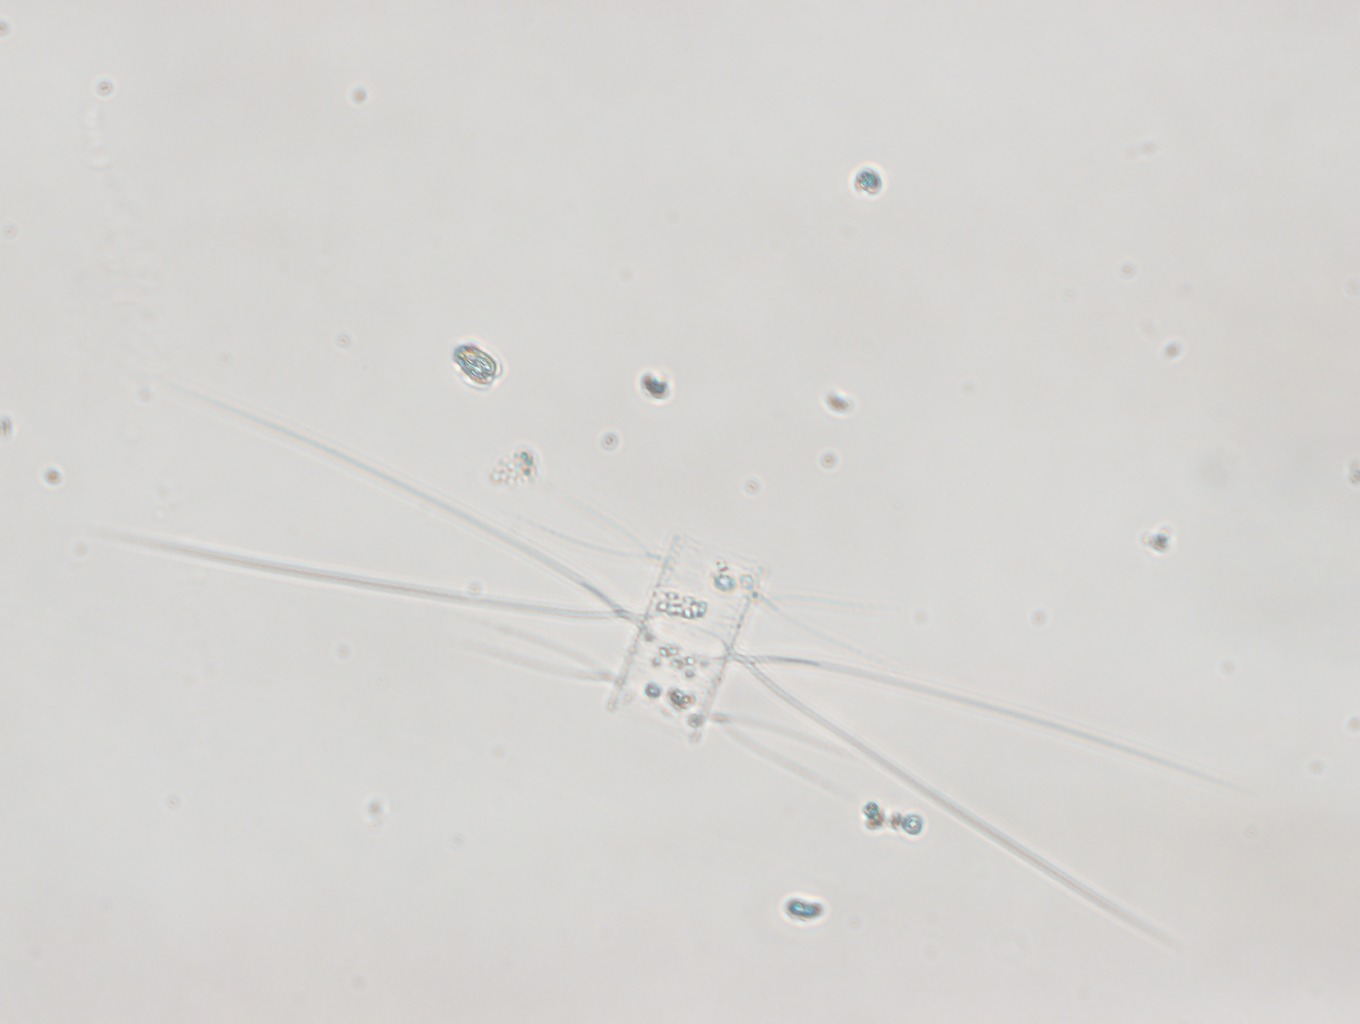chaetoceros: (95, 362, 1284, 962)
